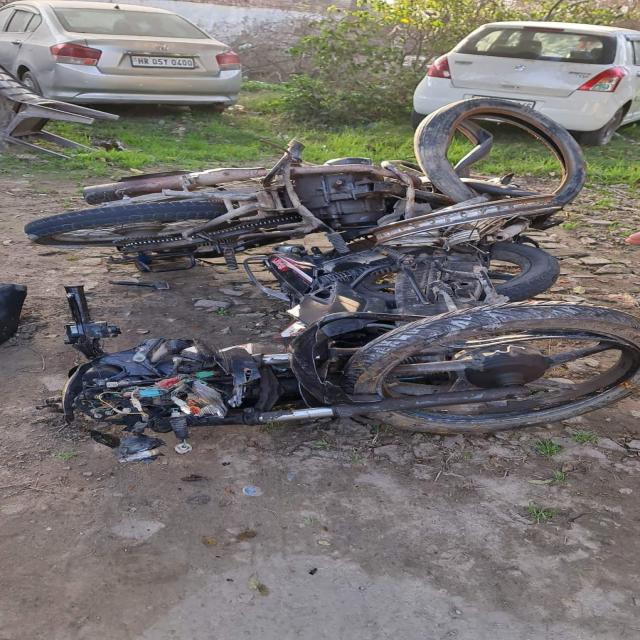accident: (62, 231, 640, 452), (24, 99, 584, 273)
car: (0, 0, 242, 117), (413, 21, 640, 114)
